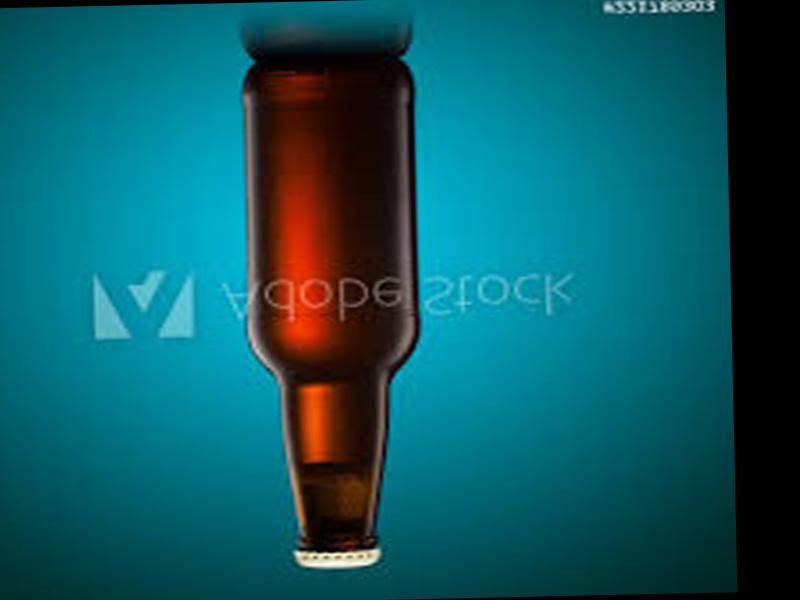Beer: (242, 54, 427, 570)
